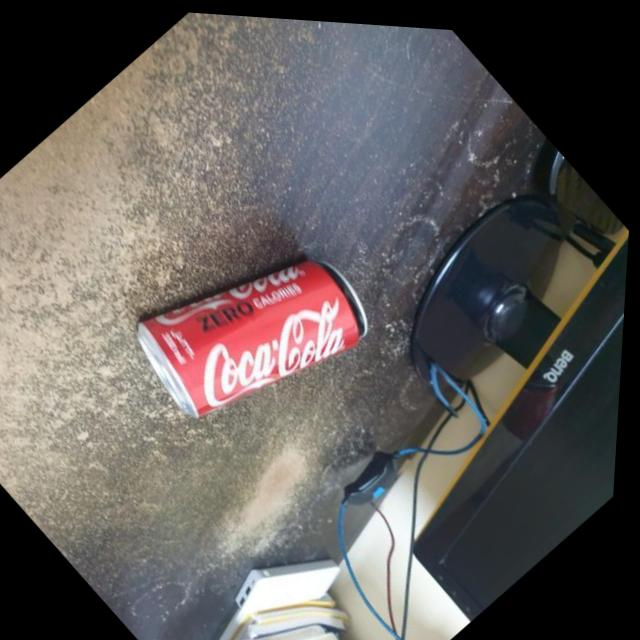metal: (138, 260, 367, 416)
